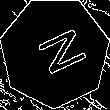N_SW: (24, 23, 85, 81)
